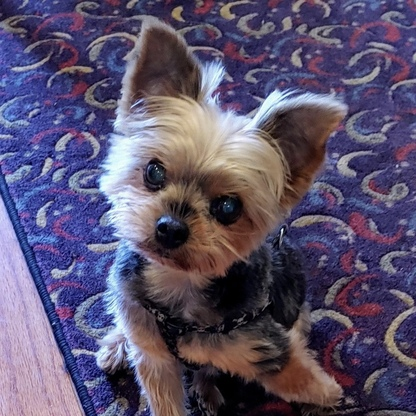yorkshire: (96, 17, 347, 416)
